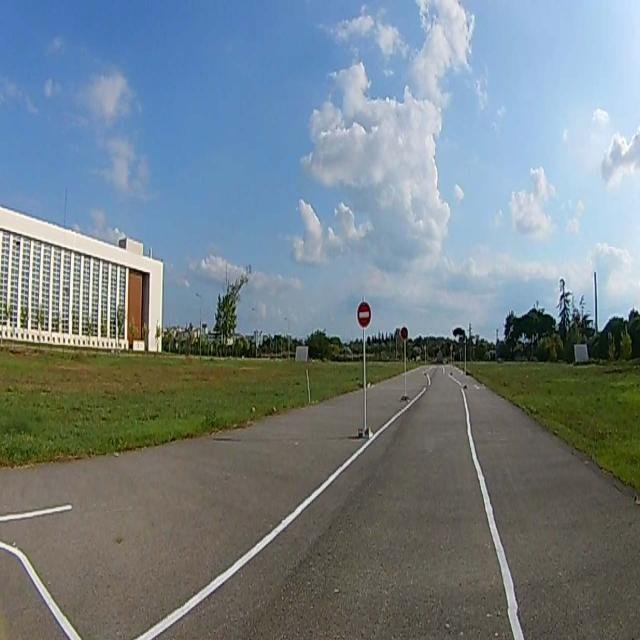girisyok: (356, 301, 371, 327)
